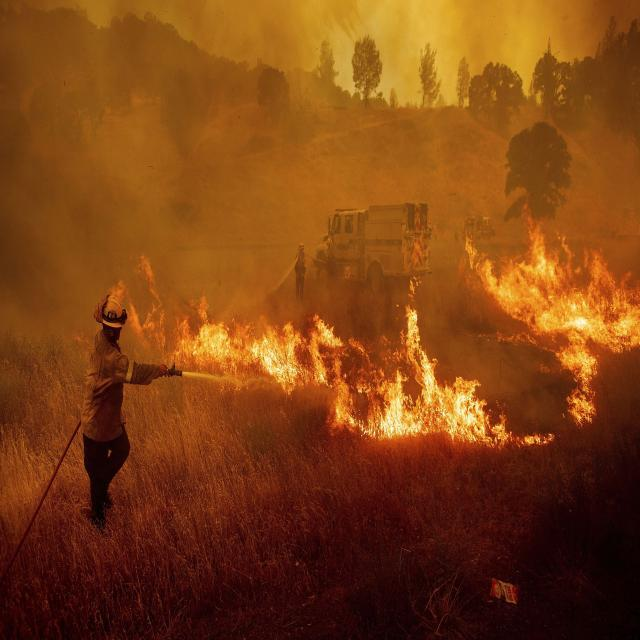Fire: (170, 193, 640, 452)
